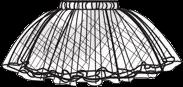Hemline: (0, 62, 182, 86)
Waistline: (57, 8, 118, 10), (60, 0, 117, 1)
